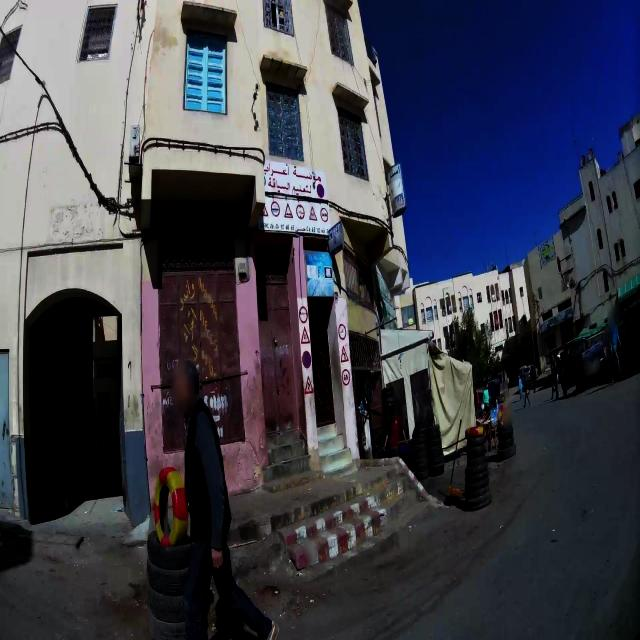car: (538, 345, 558, 390), (518, 363, 538, 389)
